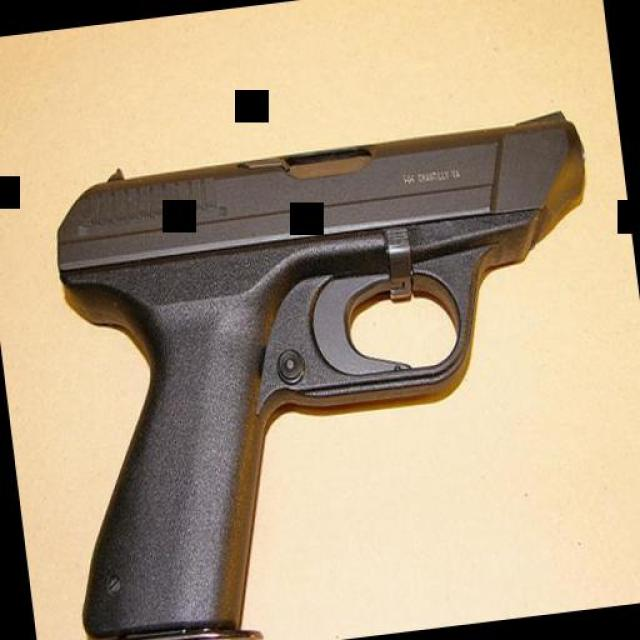gun: (23, 105, 635, 640)
